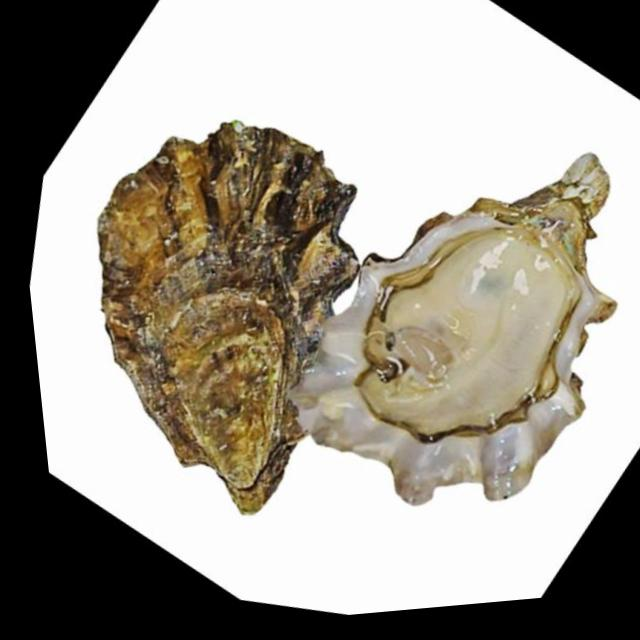Oyster-Indeterminate: (98, 121, 358, 513)
Oyster-Open: (289, 154, 616, 504)
